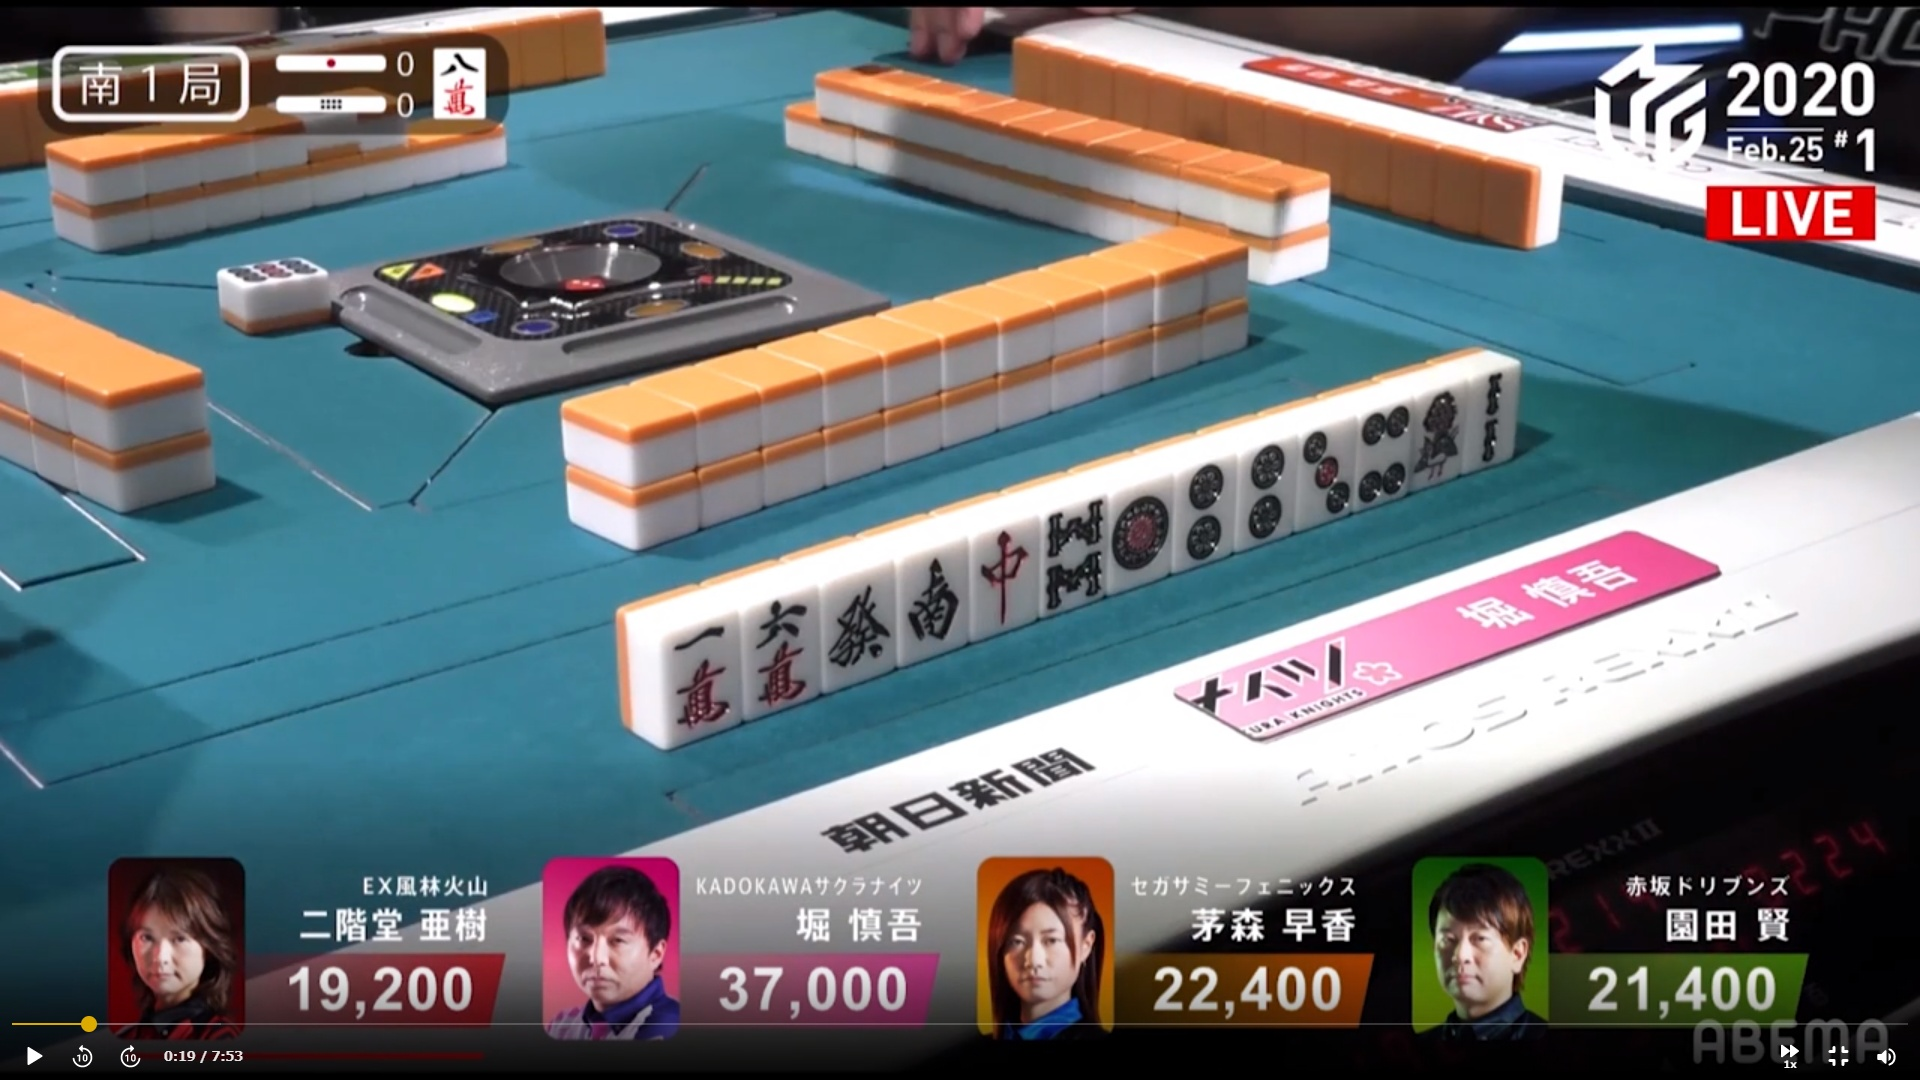1m: (655, 609, 737, 738)
1p: (1112, 477, 1175, 584)
1s: (1411, 381, 1462, 489)
2p: (1229, 436, 1292, 549), (1172, 458, 1225, 567)
2s: (1465, 361, 1518, 468)
3p: (1295, 415, 1349, 522)
4p: (1352, 402, 1406, 509)
6m: (738, 588, 815, 708)
8s: (1038, 495, 1109, 611)
chun: (969, 518, 1034, 634)
hand_nan_1: (47, 36, 255, 123)
hatsu: (822, 564, 899, 680)
nan: (903, 542, 964, 655)
round_0: (264, 86, 415, 120)
team_kadokawa: (1168, 622, 1425, 745)
